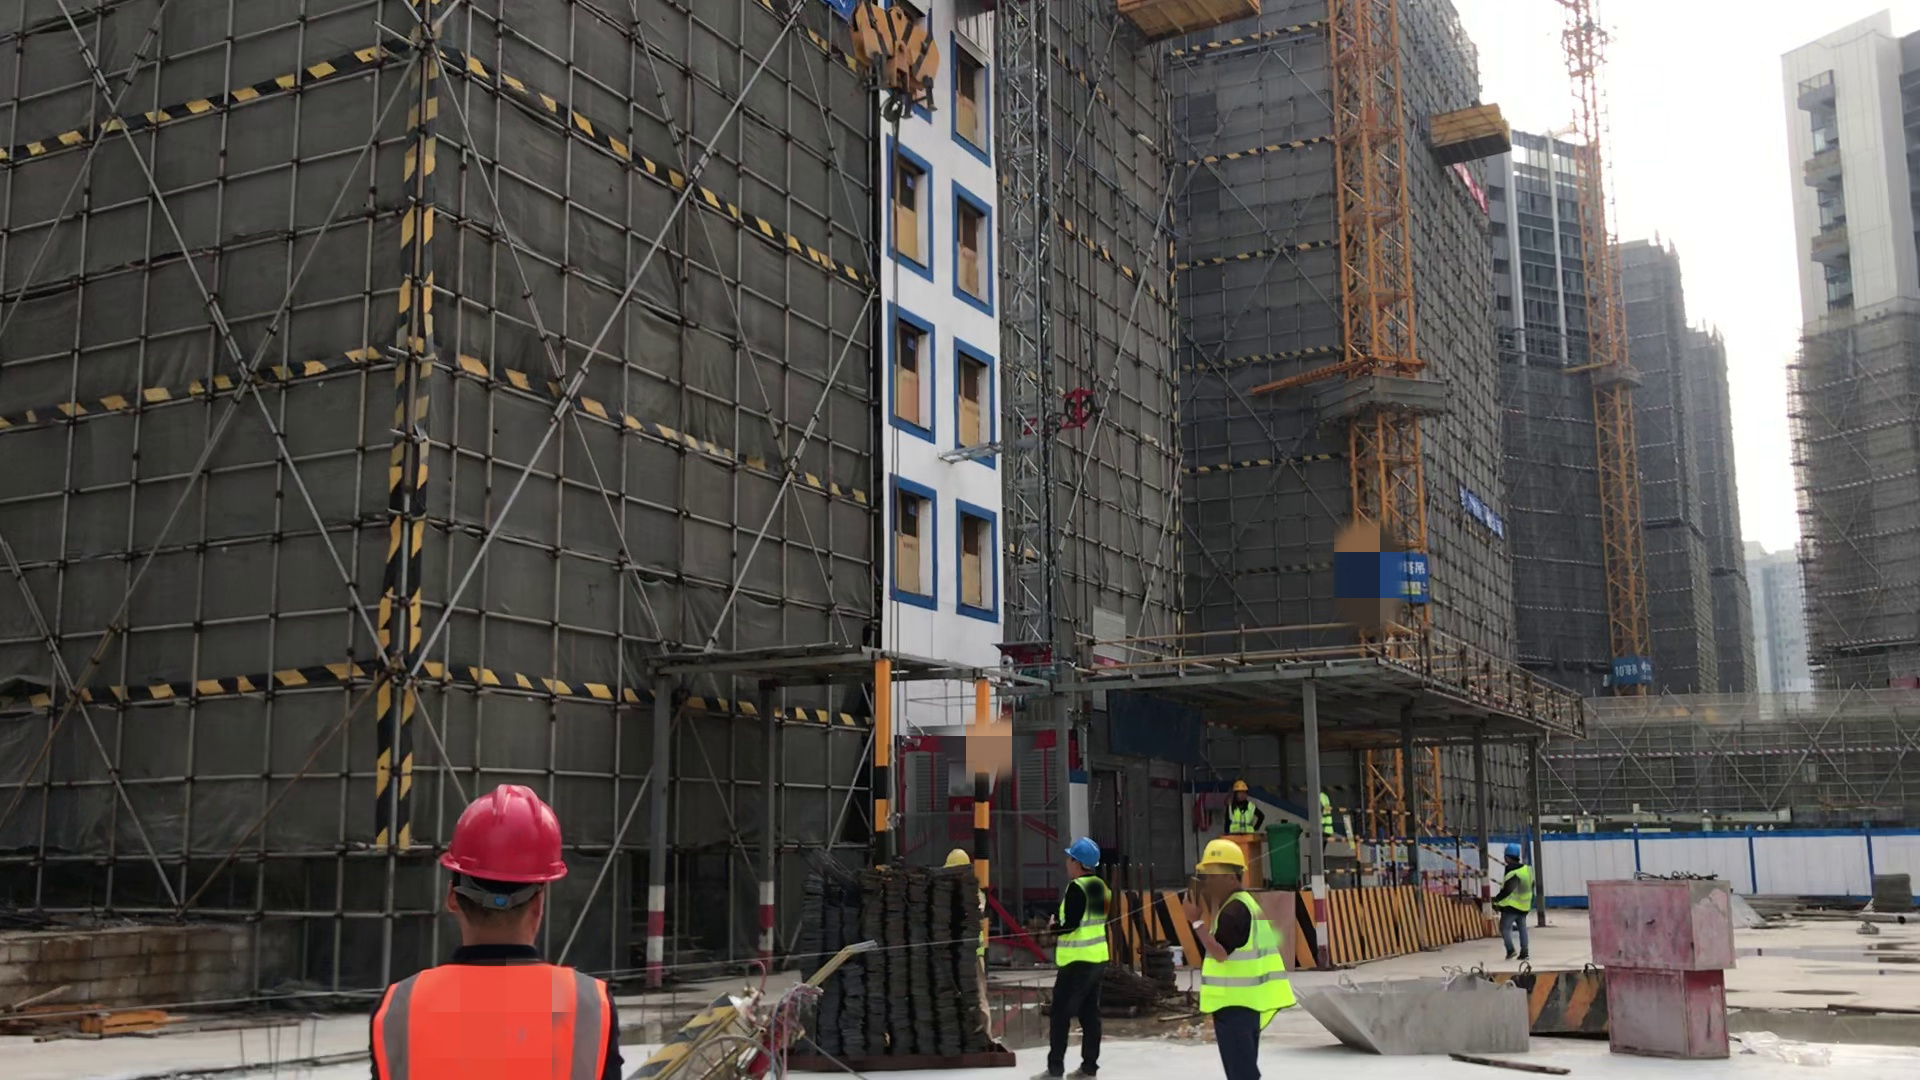fence: (1304, 780, 1527, 909)
handcart: (667, 934, 859, 1080)
helmet: (438, 778, 575, 880), (1192, 842, 1254, 886), (1063, 835, 1106, 872), (939, 845, 979, 870), (1501, 843, 1528, 873), (1229, 774, 1256, 801)
hook: (851, 1, 944, 137)
hopper: (1302, 964, 1549, 1063), (1471, 942, 1623, 1052)
person: (363, 770, 647, 1080), (1180, 823, 1309, 1080), (1035, 834, 1123, 1080), (1485, 836, 1539, 961), (1216, 777, 1265, 839)
slogan: (1453, 461, 1514, 537)
vest: (370, 957, 623, 1080), (1196, 891, 1301, 1029), (1051, 867, 1115, 981), (1488, 863, 1538, 923), (1223, 798, 1262, 834), (1314, 789, 1336, 835)
